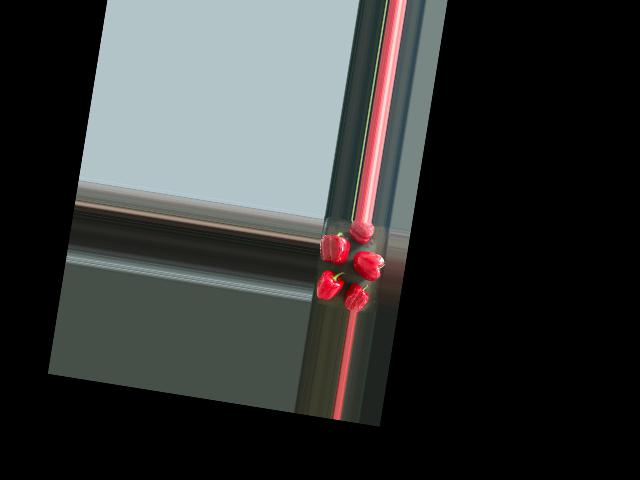bell_pepper: (345, 220, 380, 246)
